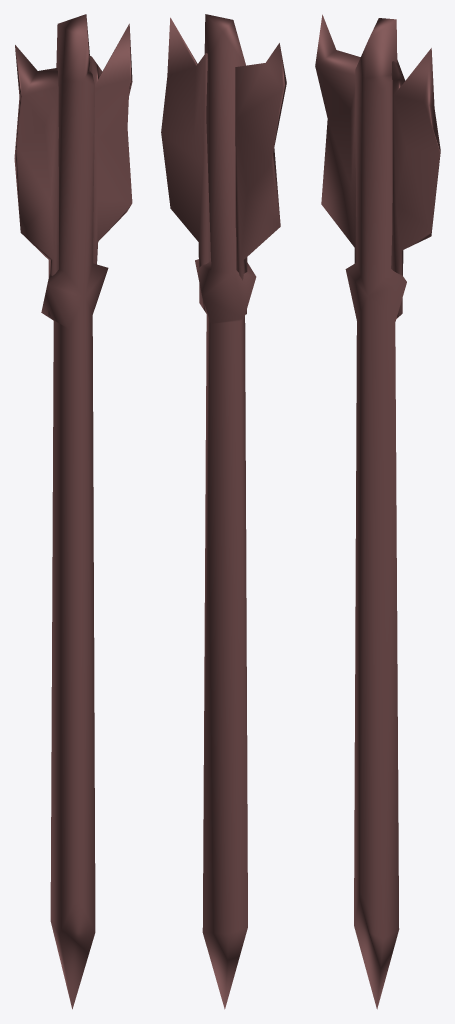
File: MMarket_Bolt.fbx
The picture shows the model from 3 angles, left to right: view 1: azimuth 30°, elevation 25°; view 2: azimuth 150°, elevation 25°; view 3: azimuth 330°, elevation 25°; orthographic projection.
Parts seen in each view (by area): view 1: MMarkets_Bolt_LOD0; view 2: MMarkets_Bolt_LOD0; view 3: MMarkets_Bolt_LOD0.
Part boxes in pixels (x1,y1,x2,y2): MMarkets_Bolt_LOD0: (14,14,132,1009); MMarkets_Bolt_LOD0: (161,14,286,1009); MMarkets_Bolt_LOD0: (315,14,440,1009).
Size of the model in its own units: 0.0502 by 0.4126 by 0.021.
